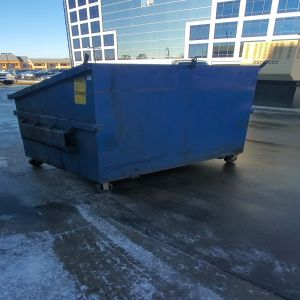Dumpster: (13, 62, 258, 193)
